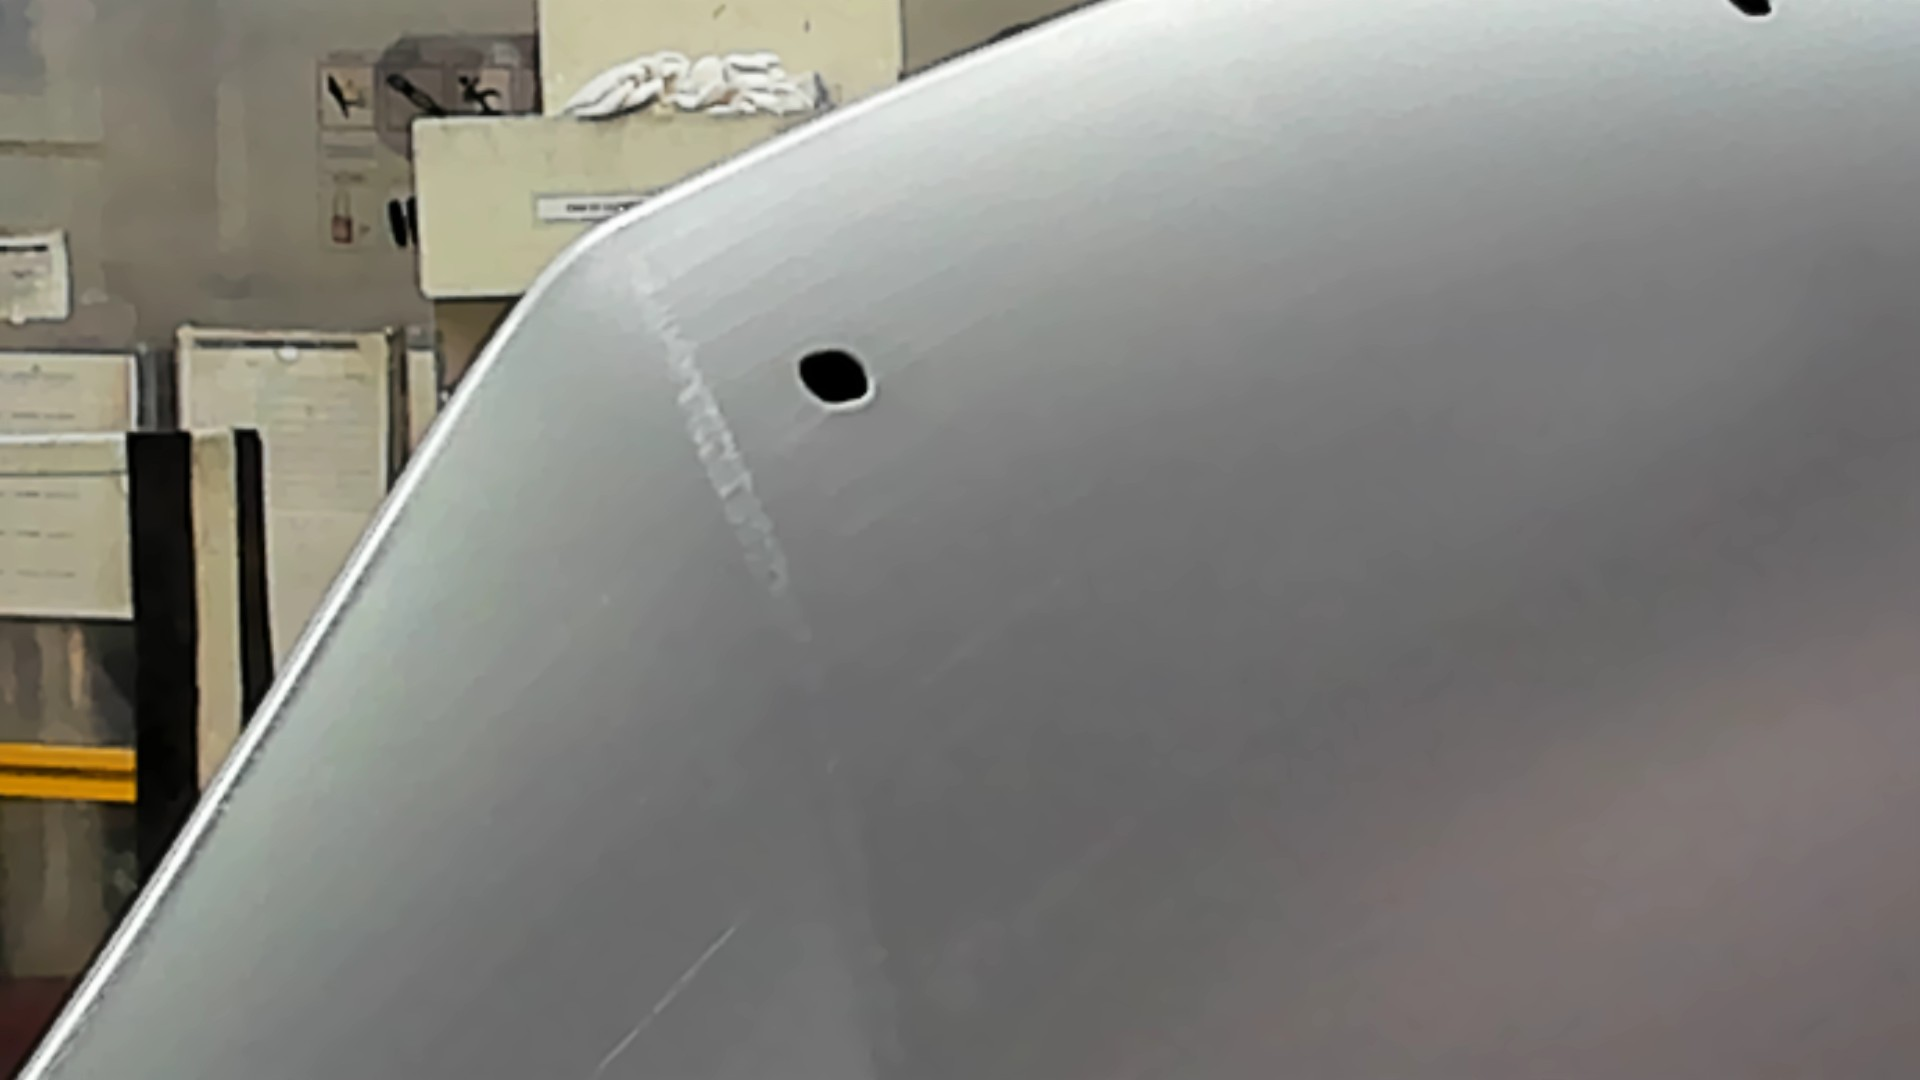amorfo: (789, 342, 878, 415), (1716, 1, 1788, 18)
